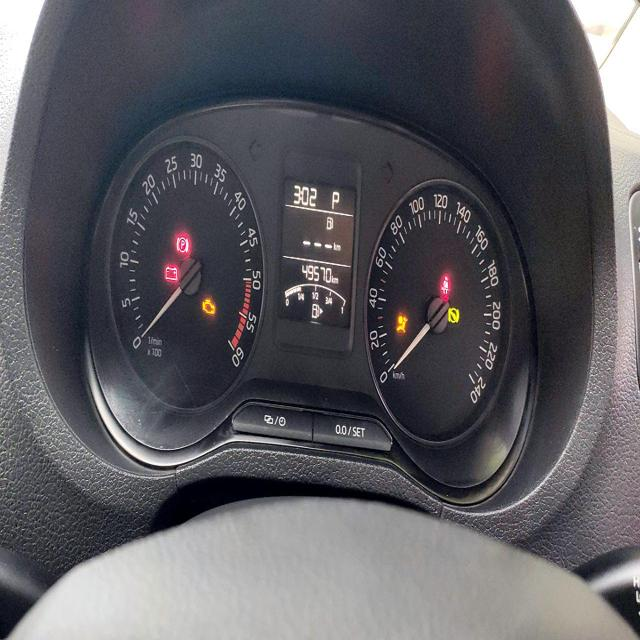odometer: (298, 258, 334, 288)
